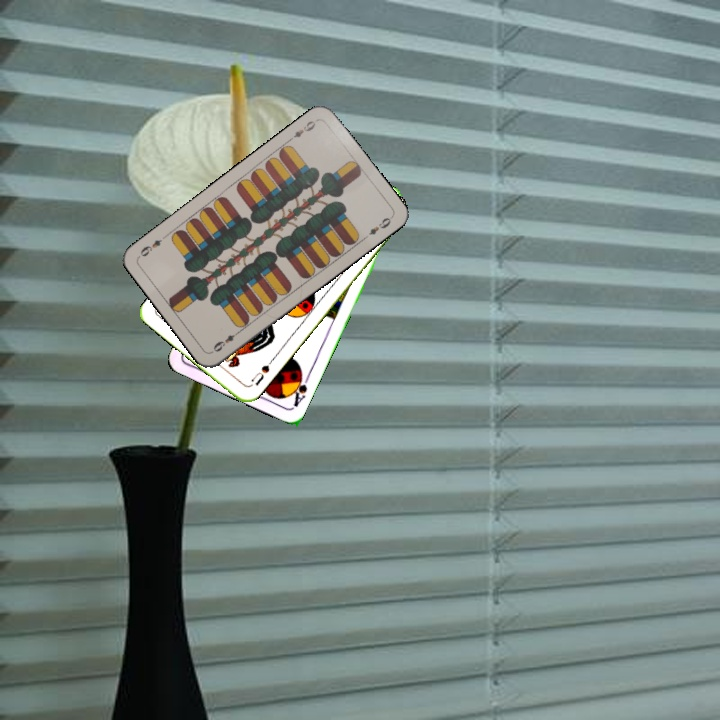E9: (285, 115, 320, 144), (209, 326, 243, 355)
SA: (287, 369, 312, 410)
SU: (245, 355, 276, 389)
